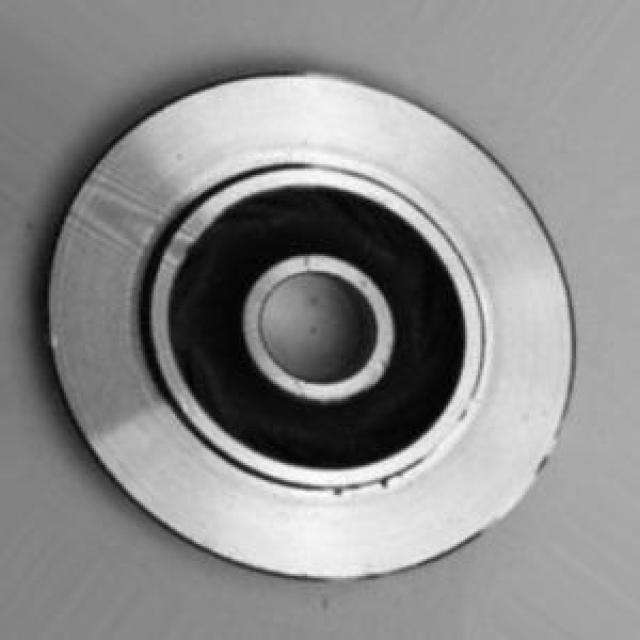Defect: (370, 470, 403, 501), (330, 486, 351, 504)
